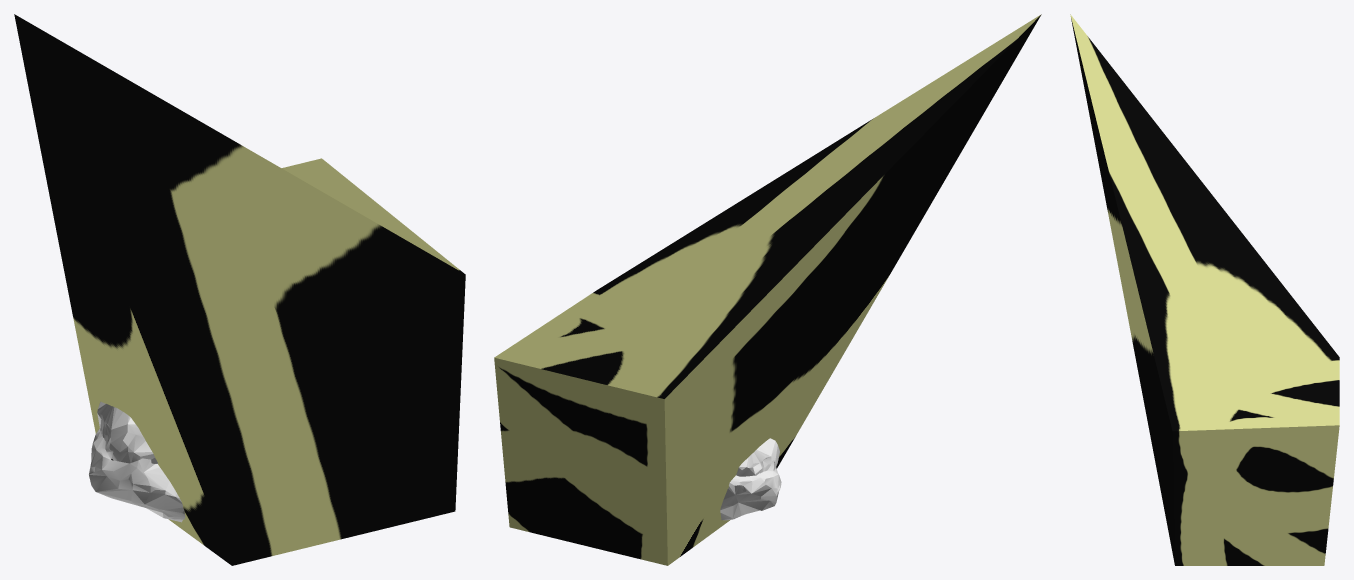
3 renders of one model, left to right at view 1: azimuth 30°, elevation 25°; view 2: azimuth 150°, elevation 25°; view 3: azimuth 270°, elevation 25°, orthographic. The views are drawn at different scales.
Visible parts, largest first — view 1: Cube, lark_1.001; view 2: Cube, lark_1.001; view 3: Cube.
Boxes of the visible parts, x1,y1,x2,y2 form: Cube: (14,14,465,565); lark_1.001: (89,401,185,522); Cube: (494,14,1041,565); lark_1.001: (720,438,781,520); Cube: (1070,14,1339,565).
Bounding box in the file's own units: 4.84 × 6 × 3.61.
1 material, 1 textured.
